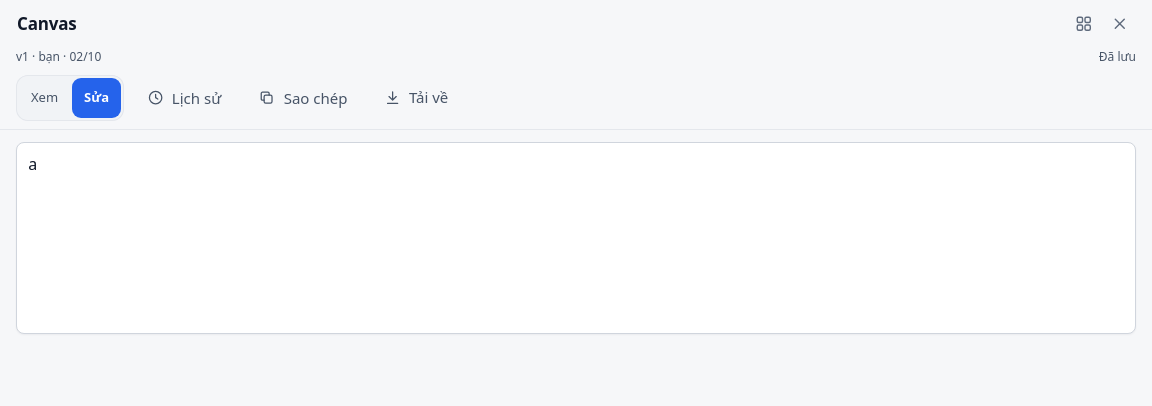
Test case: the size a save was held to, said where the panel says why it did not land › is beside the version line and in the notice of a canvas asked to close
Replace the text in the text box named "Nội dung canvas" with "ab". click: (576, 238)
box: [16,142,1136,334]
Wait 1500 ms
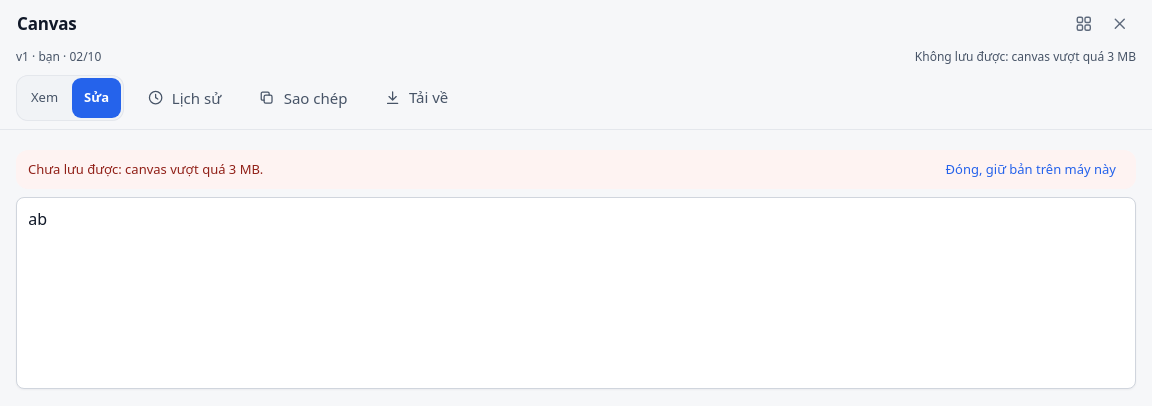
Expected: the message with class "canvas-save-state" reads "Không lưu được: canvas vượt quá 3 MB", [915,48,1136,65]
Expected: the message "Chưa lưu được: canvas vượt quá 3 MB. Đóng, giữ bản trên máy này" is shown, [16,150,1136,189]
